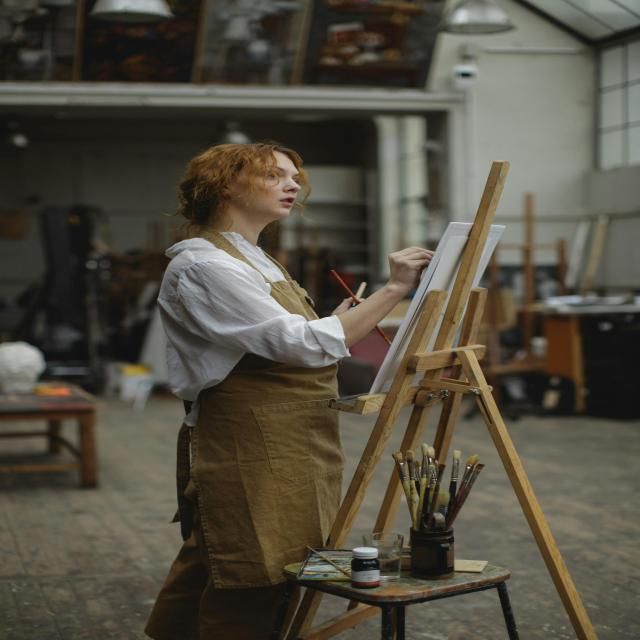stand: (171, 126, 333, 615)
